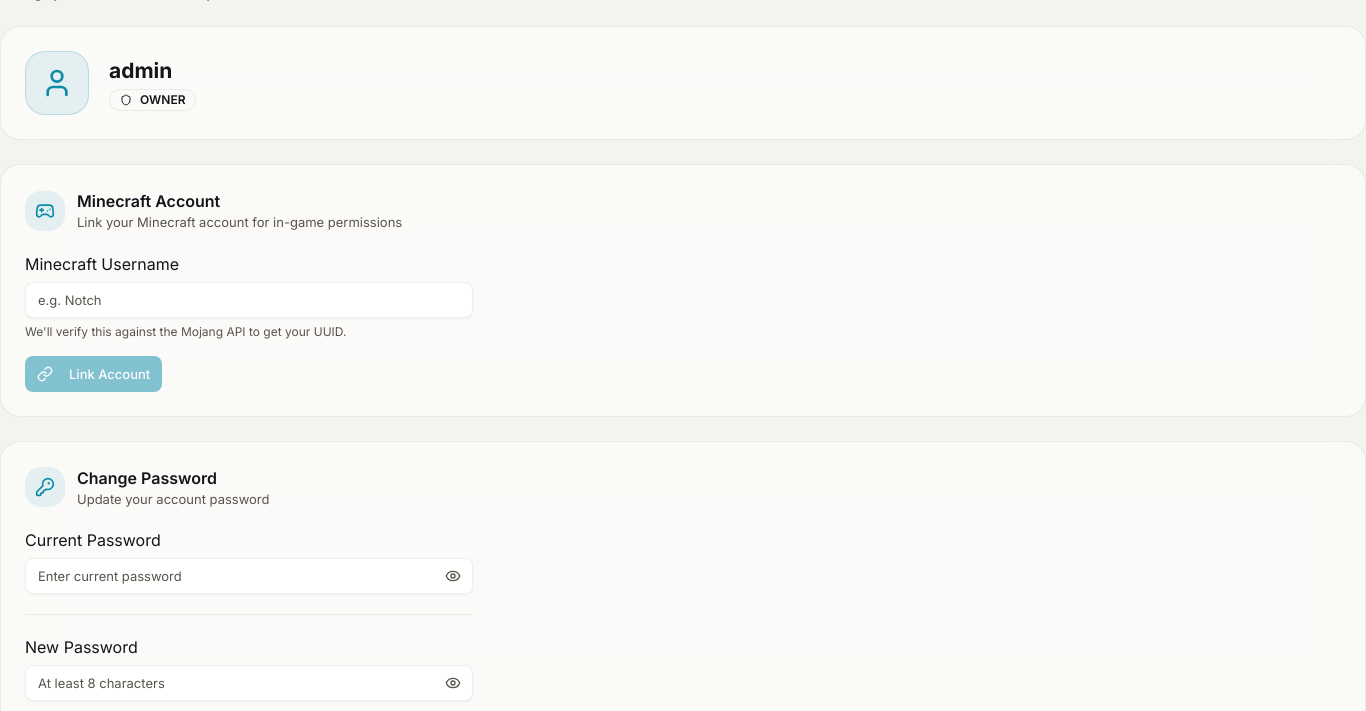
Scenario: profile › keeps the Change Password button disabled until the form is valid
This screenshot has width=1366, height=711.
Type "oldpass" into the password field with id "current-password" at (249, 576), box [25, 558, 473, 594]
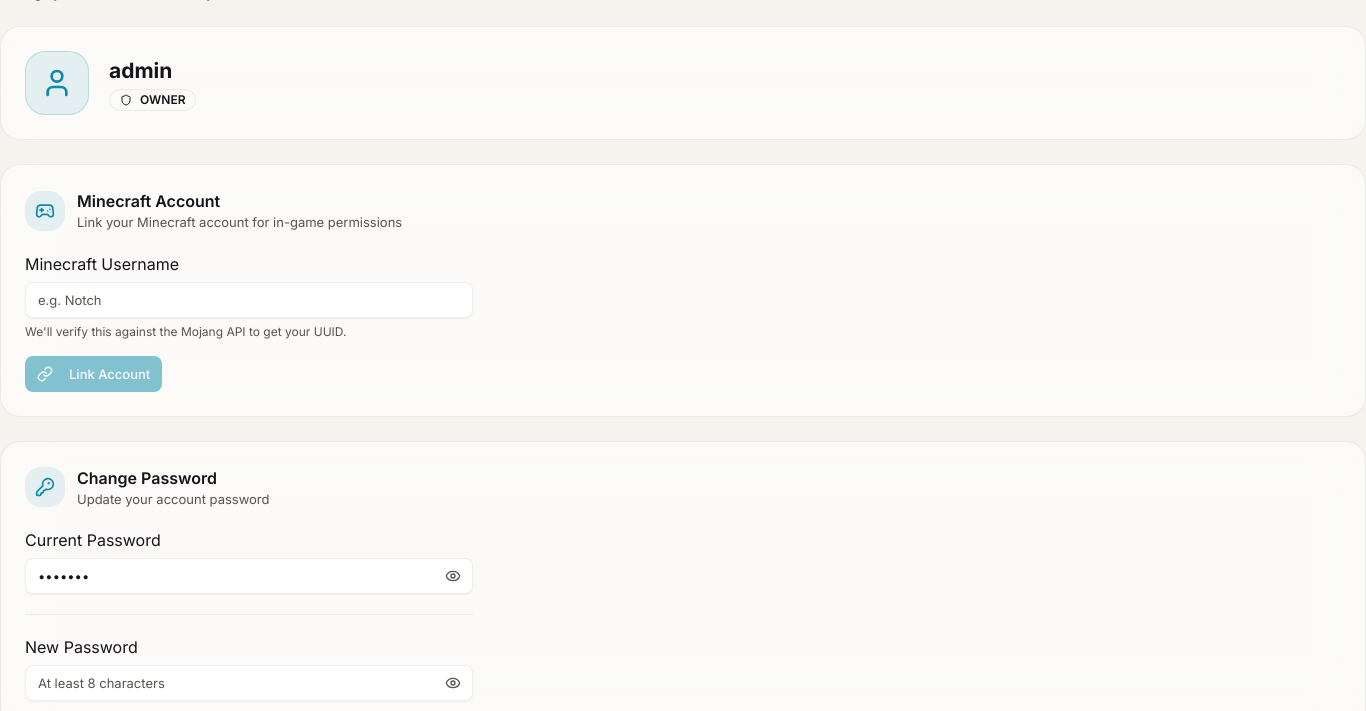
Type "newlongpass" into the password field with id "new-password" at (249, 684), box [25, 666, 473, 702]
(page scrolled)
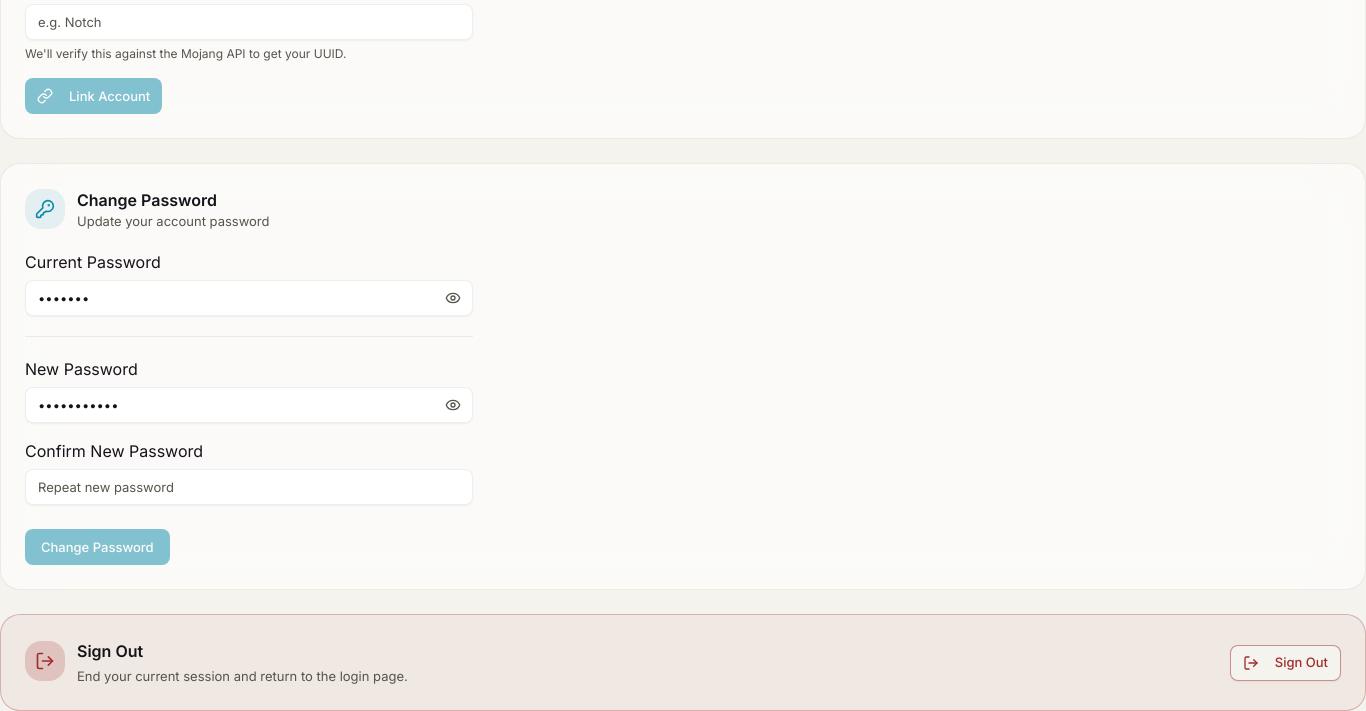
Type "newlongpass" into the password field with id "confirm-password" at (249, 488), box [25, 470, 473, 506]
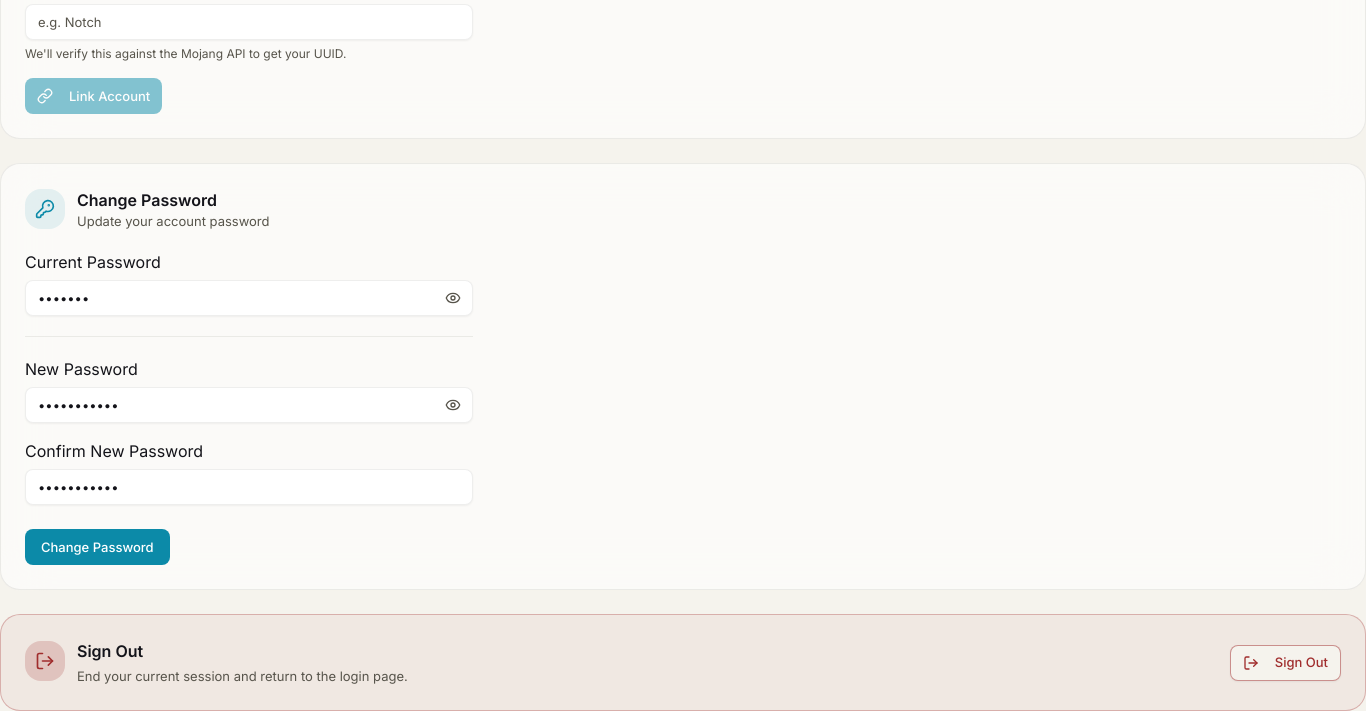
expect the button "Change Password" is enabled: met, box [25, 530, 170, 566]
